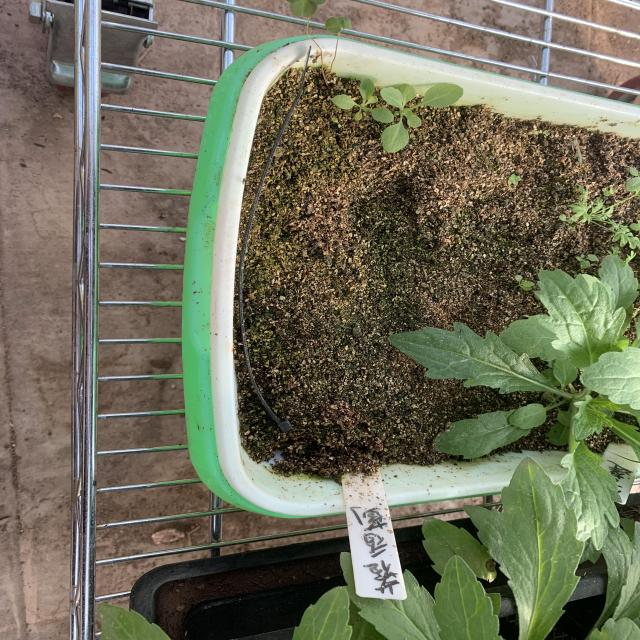horseweed: (276, 0, 502, 222), (66, 179, 166, 299)
